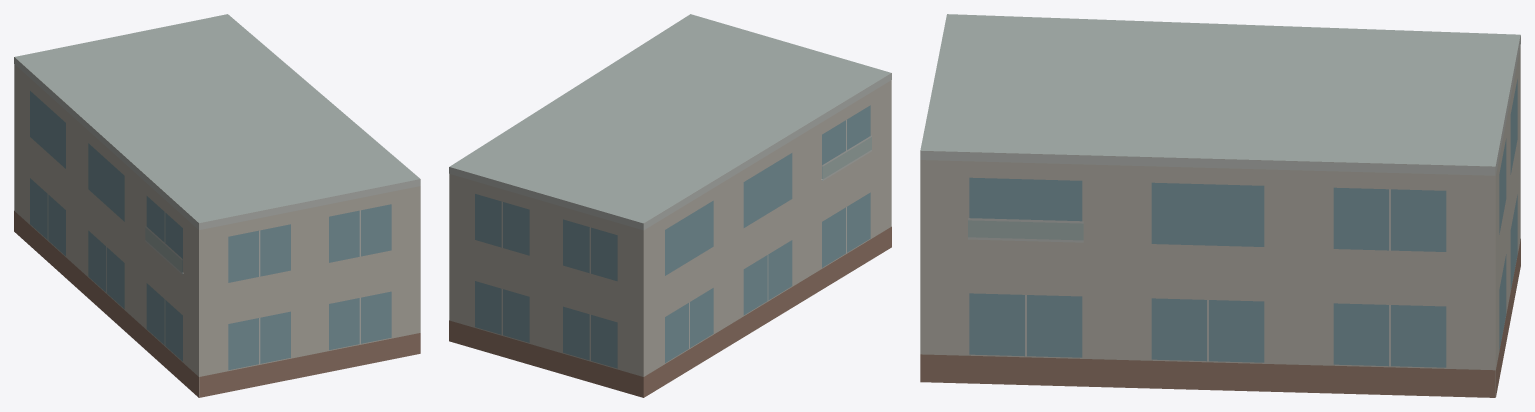
The model's file is survey-upis-32702821.glb.
3 views of the same model, side by side, from view 1: azimuth 30°, elevation 25°; view 2: azimuth 150°, elevation 25°; view 3: azimuth 270°, elevation 25° (orthographic). The views are drawn at different scales.
Visible parts, largest first — view 1: survey-upis-32702821.tmp; view 2: survey-upis-32702821.tmp; view 3: survey-upis-32702821.tmp.
Part boxes in pixels (box(x1,y1,x2,y2)): survey-upis-32702821.tmp: box(14, 14, 420, 397); survey-upis-32702821.tmp: box(449, 14, 891, 397); survey-upis-32702821.tmp: box(920, 14, 1520, 397).
Bounding box in the file's own units: 8.64 × 6.1 × 14.36.
